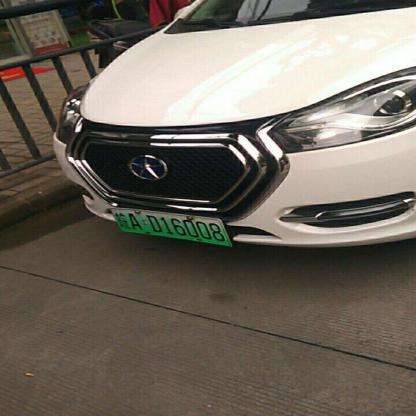lp: (110, 209, 232, 246)
